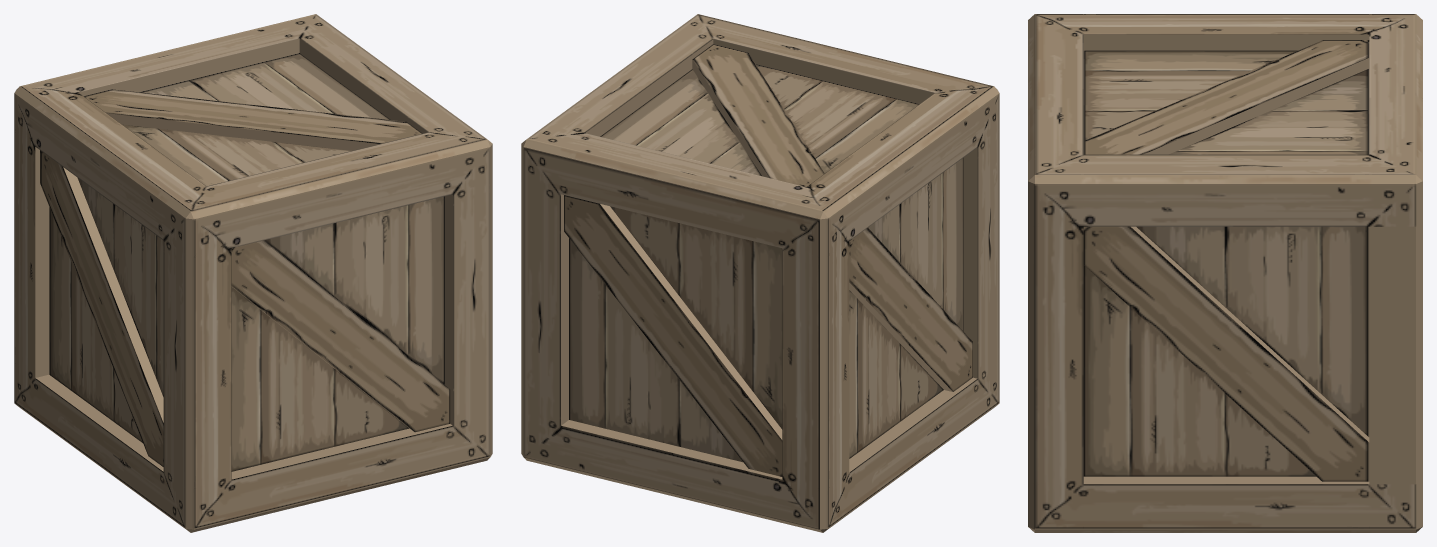
Rendered from Crate.fbx.
3 views of the same model, side by side, from view 1: azimuth 30°, elevation 25°; view 2: azimuth 150°, elevation 25°; view 3: azimuth 270°, elevation 25° (orthographic). The views are drawn at different scales.
Parts seen in each view (by area): view 1: pCube1; view 2: pCube1; view 3: pCube1.
Part boxes in pixels (<box>): pCube1: <box>14,14,492,532</box>; pCube1: <box>521,14,999,532</box>; pCube1: <box>1028,14,1422,532</box>.
Size of the model in its own units: 100 by 100 by 100.
Materials: 1 (1 with a texture image).
